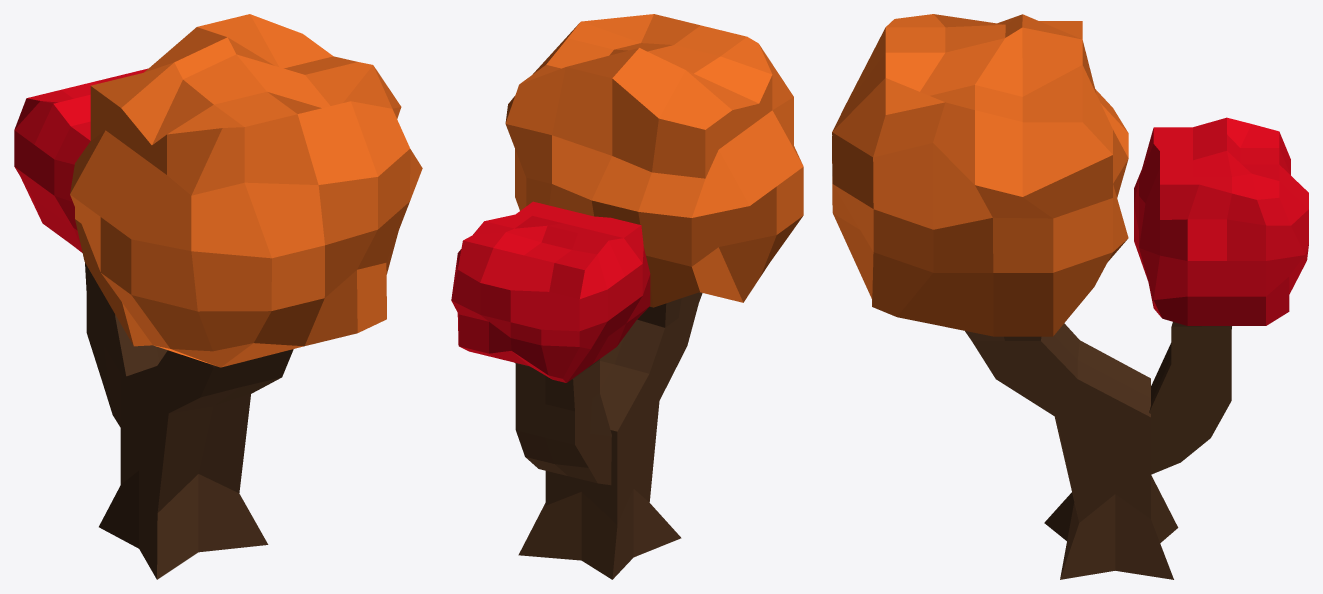
Rendered from drzewko2.fbx.
3 renders of one model, left to right at view 1: azimuth 30°, elevation 25°; view 2: azimuth 150°, elevation 25°; view 3: azimuth 270°, elevation 25°, orthographic. The views are drawn at different scales.
Parts seen in each view (by area): view 1: Cube.002, Cube, Cube.003, Cube.001; view 2: Cube.002, Cube.003, Cube, Cube.001; view 3: Cube.002, Cube.003, Cube, Cube.001.
Boxes of the visible parts, x1,y1,x2,y2 form: Cube.002: [70, 14, 422, 367]; Cube: [99, 349, 293, 579]; Cube.003: [14, 68, 148, 252]; Cube.001: [85, 263, 167, 427]; Cube.002: [505, 14, 803, 307]; Cube.003: [451, 201, 650, 382]; Cube: [518, 292, 702, 579]; Cube.001: [515, 359, 611, 485]; Cube.002: [832, 14, 1128, 336]; Cube.003: [1134, 117, 1308, 325]; Cube: [965, 323, 1178, 579]; Cube.001: [1149, 322, 1231, 474].
Bounding box in the file's own units: 569 × 1001 × 826.
